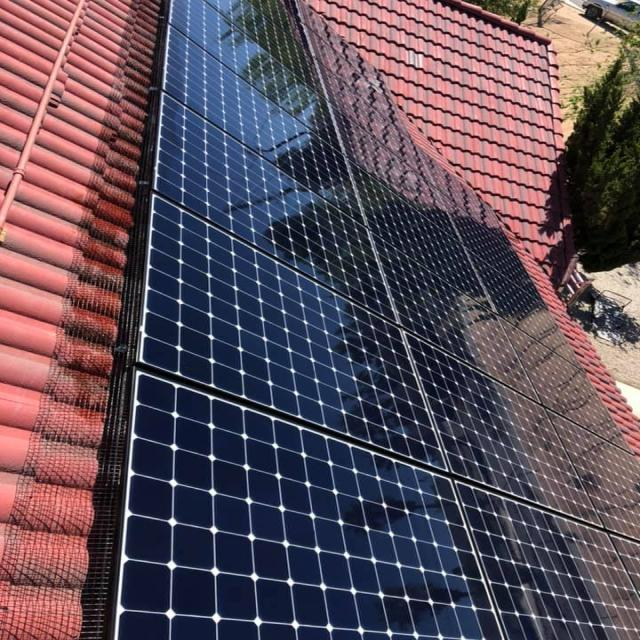clean-solar-panel: (120, 0, 635, 640)
